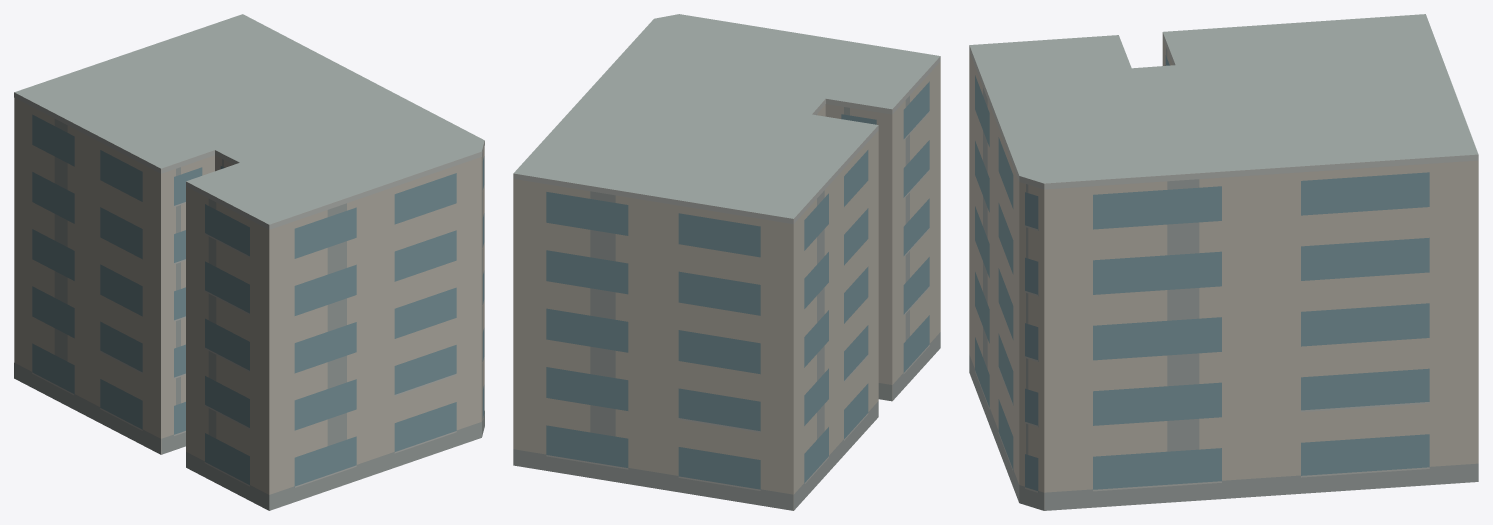
The model's file is survey-upis-32527062.glb.
3 renders of one model, left to right at view 1: azimuth 30°, elevation 25°; view 2: azimuth 150°, elevation 25°; view 3: azimuth 270°, elevation 25°, orthographic. The views are drawn at different scales.
Visible parts, largest first — view 1: survey-upis-32527062.tmp; view 2: survey-upis-32527062.tmp; view 3: survey-upis-32527062.tmp.
Boxes of the visible parts, box(x1,y1,x2,y2) form: survey-upis-32527062.tmp: box(14, 14, 484, 510); survey-upis-32527062.tmp: box(513, 14, 940, 510); survey-upis-32527062.tmp: box(969, 14, 1478, 510).
Bounding box in the file's own units: 14.9 × 13.4 × 18.9.
